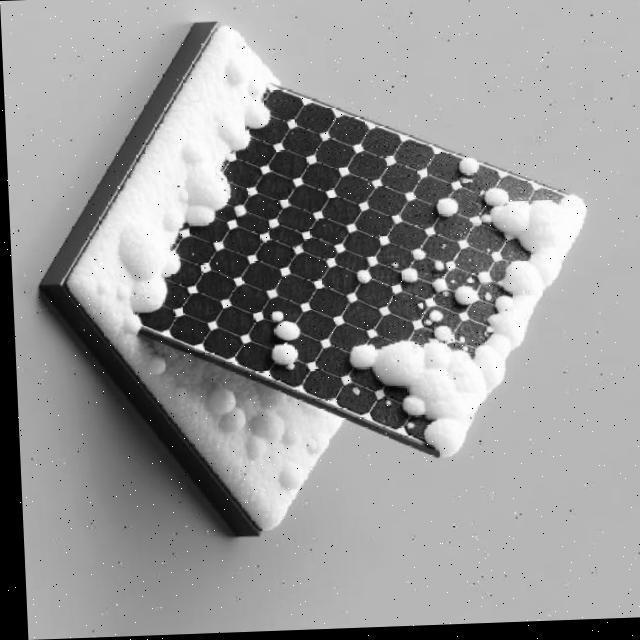Anomaly Solar Panel: (118, 61, 569, 466)
Snow: (328, 142, 607, 466), (121, 71, 286, 339), (394, 246, 456, 301), (446, 267, 502, 318), (260, 306, 303, 352), (446, 156, 485, 195), (267, 345, 297, 374), (437, 201, 459, 220)
